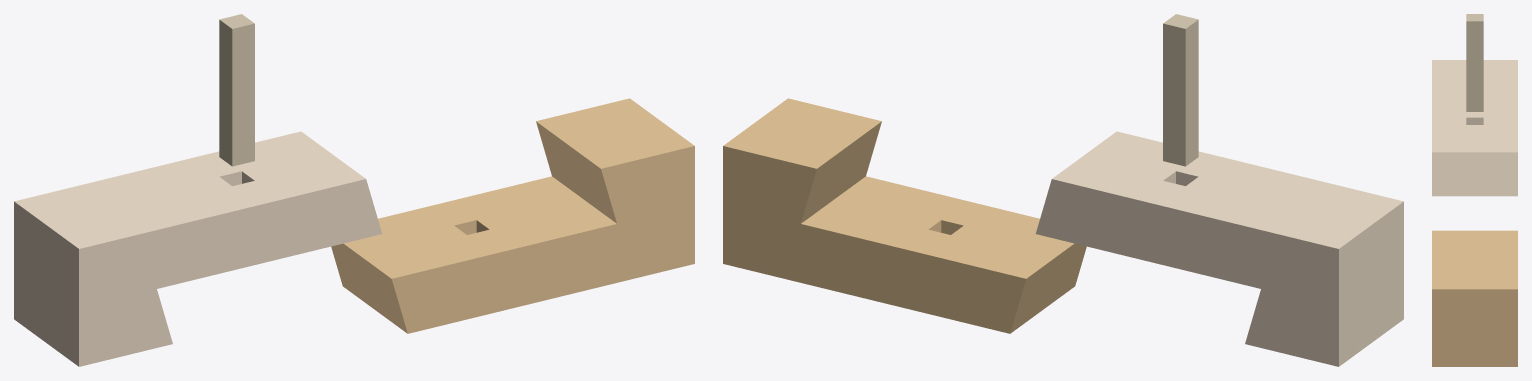
3 views of the same model, side by side, from view 1: azimuth 30°, elevation 25°; view 2: azimuth 150°, elevation 25°; view 3: azimuth 270°, elevation 25° (orthographic). The views are drawn at different scales.
Size of the model in its own units: 0.4099 by 0.205 by 0.075.
